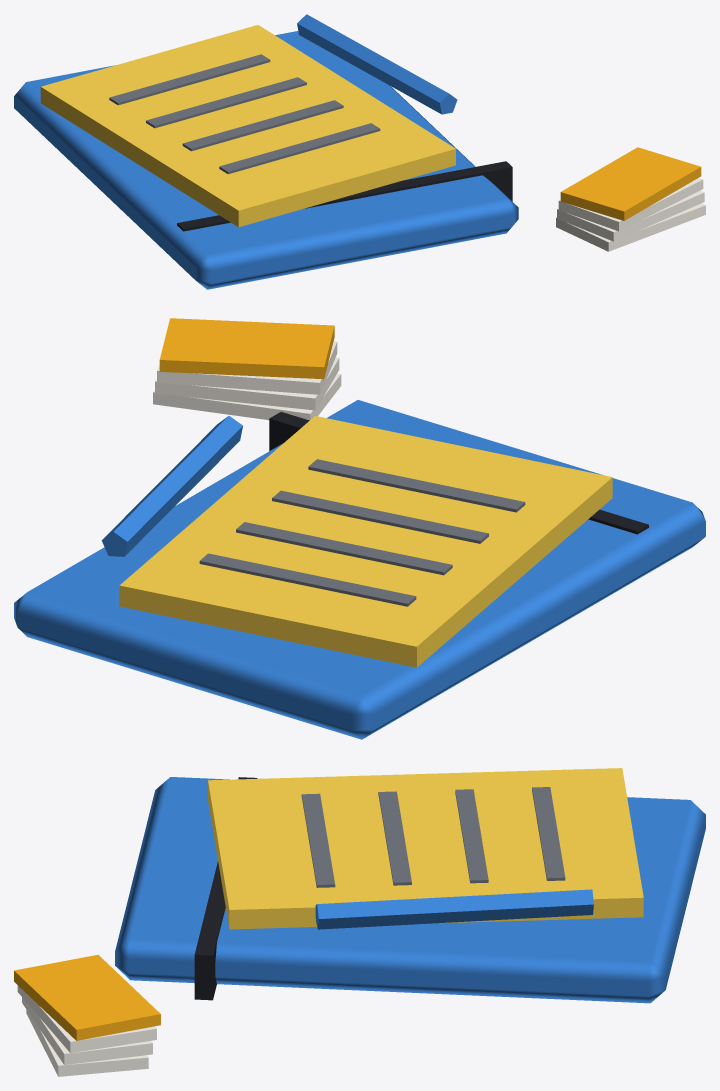
The model's file is station_special_ausstattung_3_2.glb.
3 views of the same model, one above another, from view 1: azimuth 30°, elevation 25°; view 2: azimuth 150°, elevation 25°; view 3: azimuth 270°, elevation 25° (orthographic). The views are drawn at different scales.
Visible parts, largest first — view 1: station_special_ausstattung_3_2; view 2: station_special_ausstattung_3_2; view 3: station_special_ausstattung_3_2.
Boxes of the visible parts, x1=… form: station_special_ausstattung_3_2: x1=14, y1=14, x2=705, y2=289; station_special_ausstattung_3_2: x1=14, y1=318, x2=705, y2=739; station_special_ausstattung_3_2: x1=14, y1=768, x2=705, y2=1076.
Size of the model in its own units: 0.4099 by 0.0639 by 0.4498.
